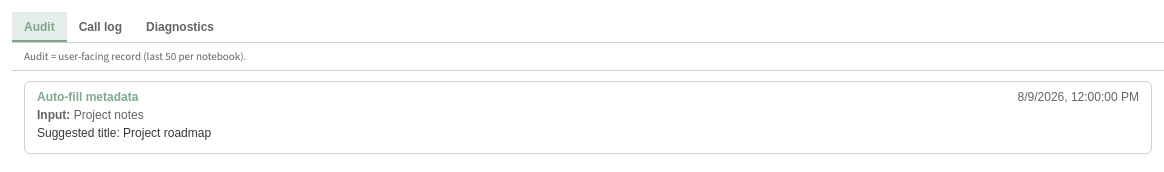
Test case: AiHistoryPanel › B3: falls back to the note id's first 8 chars when the note isn't in noteIndex
What coordinates should you click on to do the following:
click the tab "Call log"
I would click on:
 (100, 27)
Its box is [67,12,134,42].
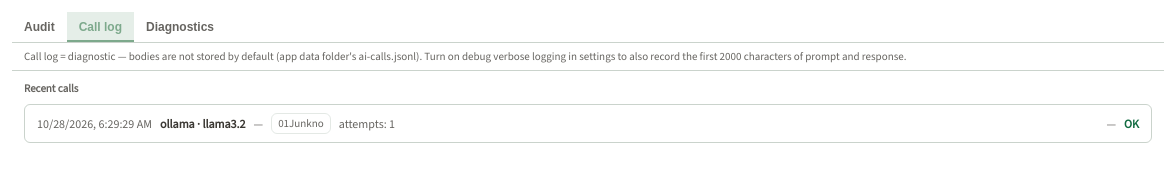
Result: the text "01Junkno" is shown at [271,113,331,134]
